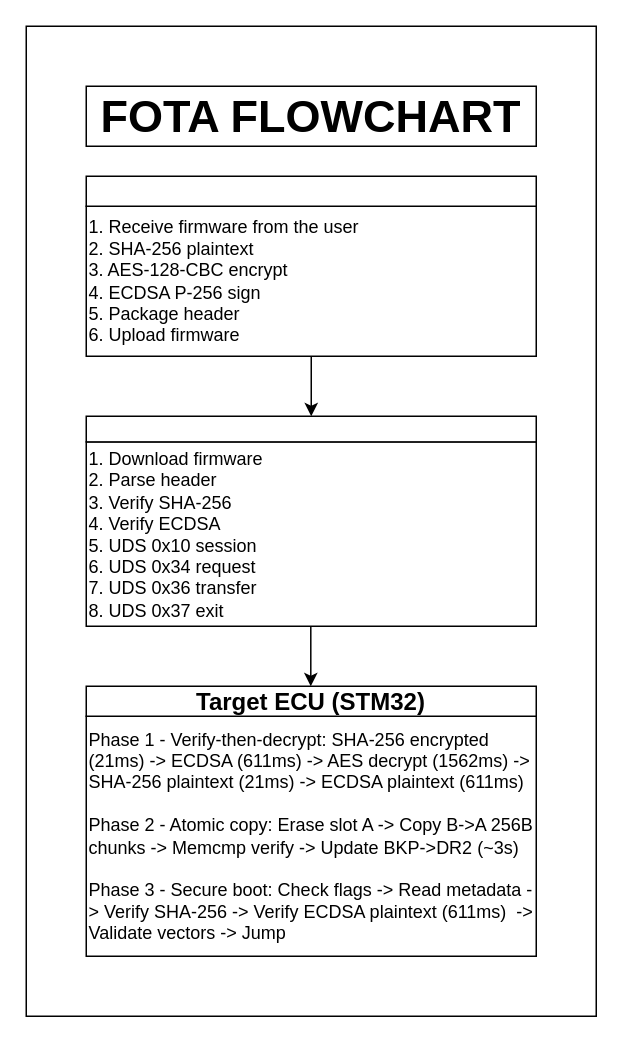
This 623x1043 diagram has some shape labels left out. The shapes that lost their labels are listed below. From the top down, each one's centre as x and y in pixels, then its label:
[310,190]: FOTA MANAGER
[310,428]: GATEWAY (ESP32)
